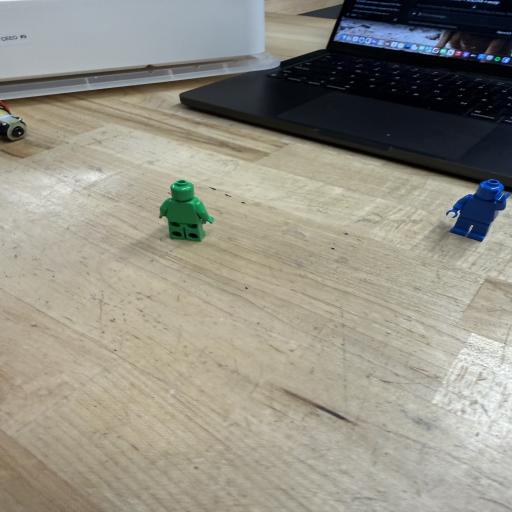blue-minifig: (449, 180, 509, 241)
green-minifig: (159, 179, 214, 241)
